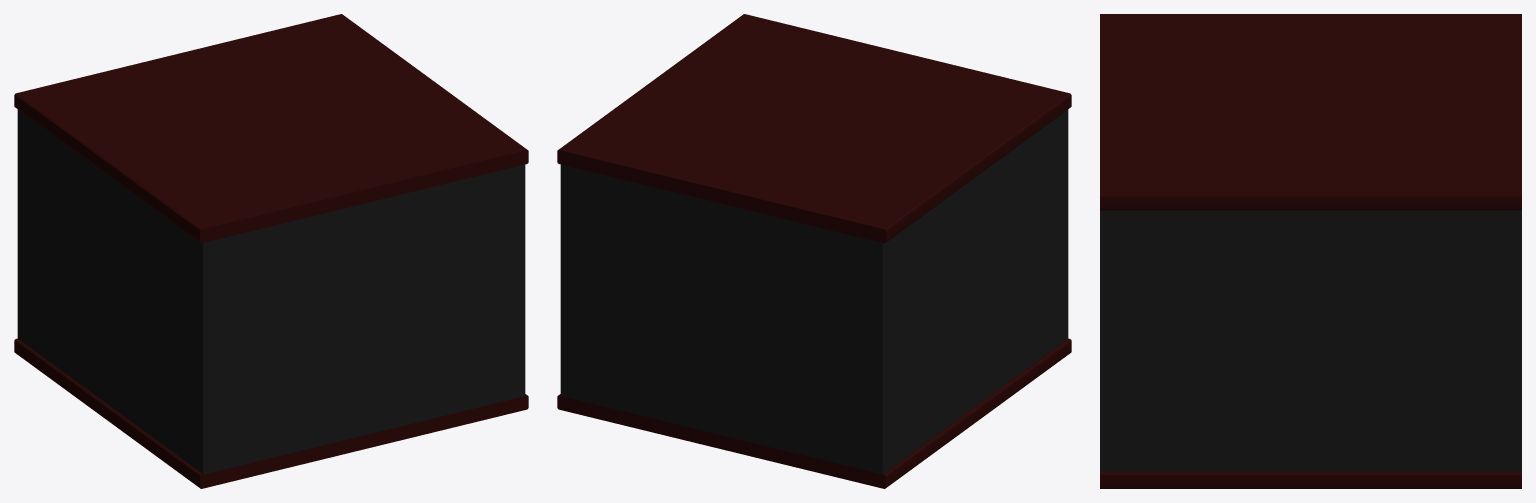
The model's file is Counters_MidSection.FBX.
The picture shows the model from 3 angles, left to right: view 1: azimuth 30°, elevation 25°; view 2: azimuth 150°, elevation 25°; view 3: azimuth 270°, elevation 25°; orthographic projection. The views are drawn at different scales.
Parts seen in each view (by area): view 1: MiddlePiece; view 2: MiddlePiece; view 3: MiddlePiece.
Boxes of the visible parts, left/top/right/bottom form: MiddlePiece: left=14, top=14, right=528, bottom=488; MiddlePiece: left=557, top=14, right=1071, bottom=488; MiddlePiece: left=1100, top=14, right=1521, bottom=488.
Bounding box in the file's own units: 49 × 37 × 48.
